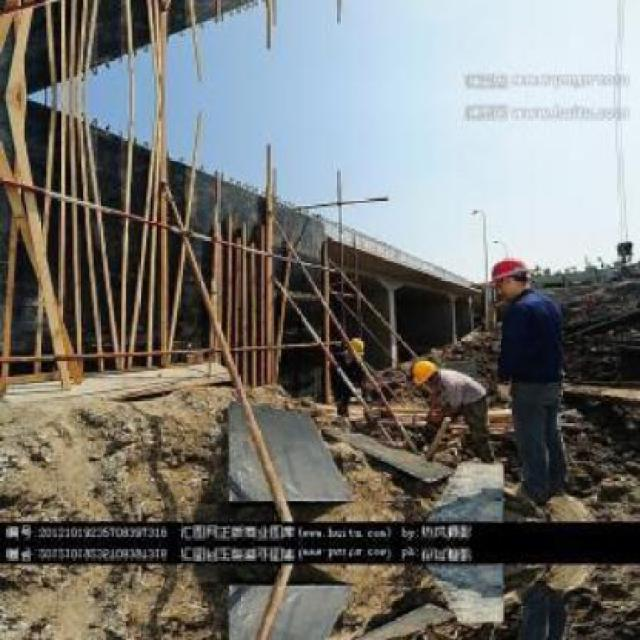helmet: (487, 253, 538, 304), (410, 354, 439, 384), (344, 331, 367, 358)
